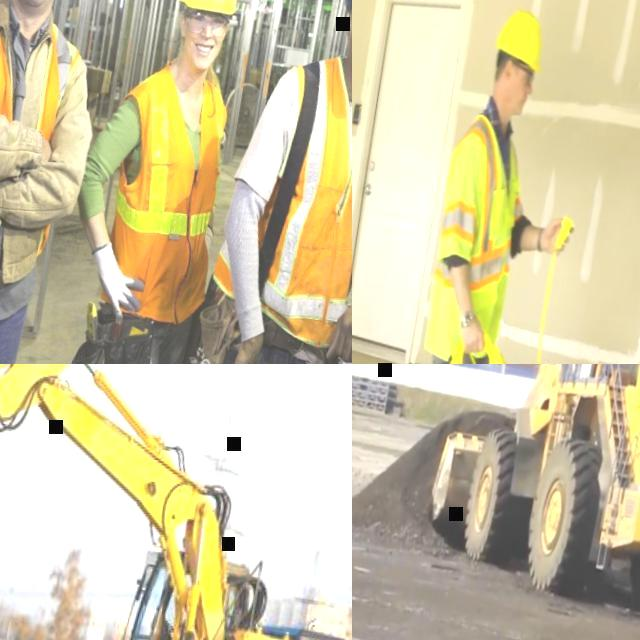helmet: (492, 7, 548, 75), (179, 0, 246, 19)
machinery: (0, 364, 352, 640), (413, 364, 640, 627)
no_mask: (184, 34, 222, 72), (502, 75, 528, 116), (10, 0, 60, 13)
person: (365, 0, 611, 364), (40, 0, 265, 364), (189, 0, 352, 364), (0, 0, 138, 364)
vest: (202, 41, 352, 359), (86, 59, 246, 328), (0, 0, 92, 299), (427, 111, 538, 312)
